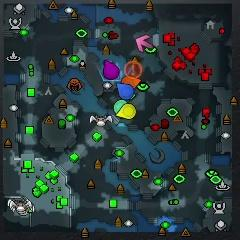Other: (124, 61, 143, 80)
p1: (117, 82, 134, 100)
p2: (114, 100, 126, 114)
p3: (103, 60, 119, 80)
p4: (115, 104, 135, 118)
p5: (122, 76, 141, 88)
x1: (136, 34, 153, 52)
